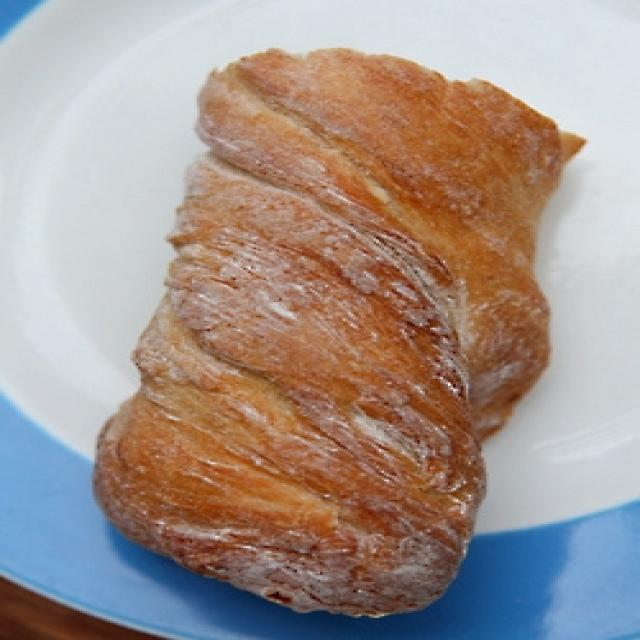面包点心: (13, 17, 630, 613)
